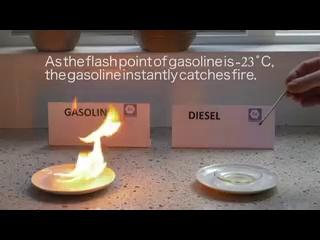Fire: (56, 114, 106, 187)
